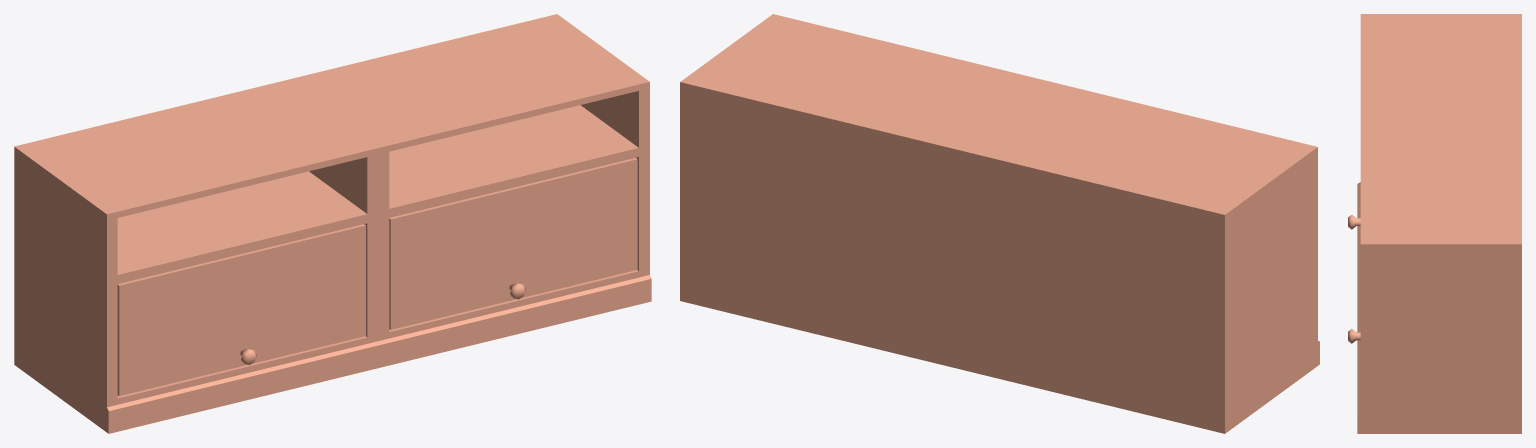
Rendered from tvBench.fbx.
3 views of the same model, side by side, from view 1: azimuth 30°, elevation 25°; view 2: azimuth 150°, elevation 25°; view 3: azimuth 270°, elevation 25° (orthographic). The views are drawn at different scales.
Visible parts, largest first — view 1: TVBench; view 2: TVBench; view 3: TVBench.
Boxes of the visible parts, left/top/right/bottom form: TVBench: left=14, top=14, right=651, bottom=433; TVBench: left=680, top=14, right=1319, bottom=433; TVBench: left=1348, top=14, right=1521, bottom=433.
Bounding box in the file's own units: 160 × 61.35 × 50.92.
Materials: 1 (1 with a texture image).
